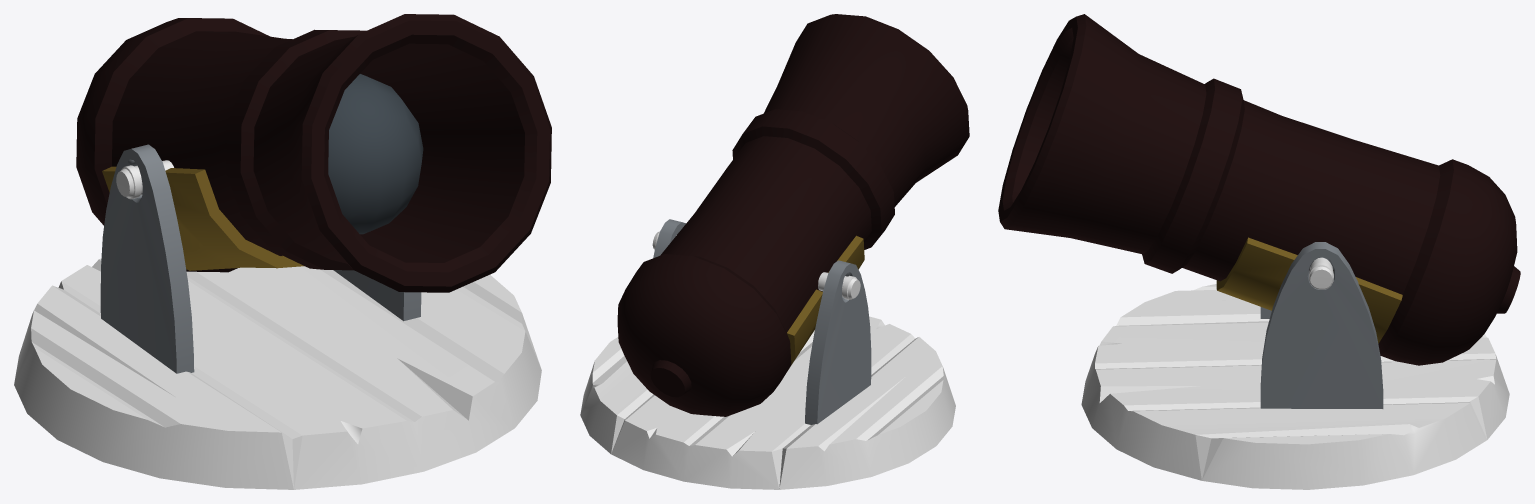
Rendered from 3_canion.fbx.
The picture shows the model from 3 angles, left to right: view 1: azimuth 30°, elevation 25°; view 2: azimuth 150°, elevation 25°; view 3: azimuth 270°, elevation 25°; orthographic projection. The views are drawn at different scales.
Visible parts, largest first — view 1: Cylinder_base, Cylinder_canion.001, Cube.002, Roundcube, Cylinder_canion_base.002, Cube.001; view 2: Cylinder_canion.001, Cylinder_base, Cube.002, Cylinder_canion_base.002, Cube.001; view 3: Cylinder_canion.001, Cylinder_base, Cube.002, Cylinder_canion_base.002, Cube.001.
Part boxes in pixels (x1,y1,x2,y2): Cylinder_base: (14, 258, 541, 489); Cylinder_canion.001: (76, 14, 551, 292); Cube.002: (100, 144, 421, 373); Roundcube: (328, 74, 423, 234); Cylinder_canion_base.002: (102, 166, 304, 270); Cube.001: (116, 160, 173, 199); Cylinder_canion.001: (617, 14, 969, 416); Cylinder_base: (580, 316, 955, 489); Cube.002: (653, 219, 871, 424); Cylinder_canion_base.002: (787, 235, 864, 369); Cube.001: (652, 231, 860, 299); Cylinder_canion.001: (998, 14, 1520, 365); Cylinder_base: (1081, 284, 1509, 489); Cube.002: (1260, 242, 1383, 408); Cylinder_canion_base.002: (1216, 237, 1402, 343); Cube.001: (1309, 257, 1333, 289).
Bounding box in the file's own units: 145 × 140 × 177.
